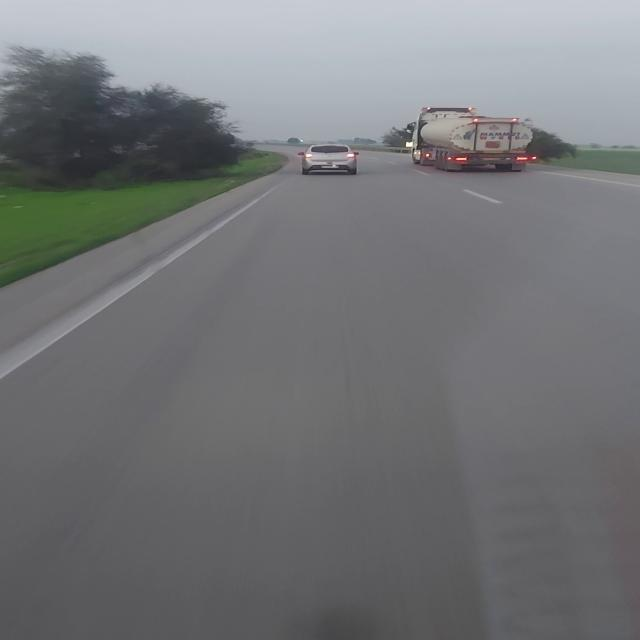Car: (297, 140, 365, 176)
Truck: (406, 100, 540, 176)
